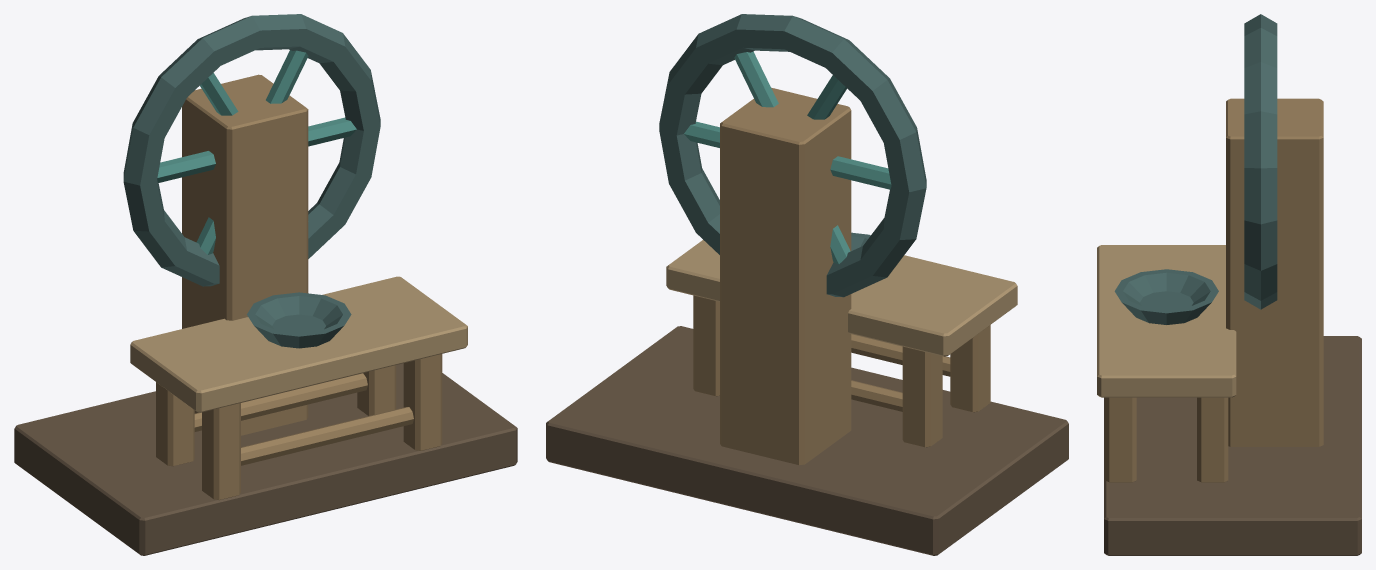
Rendered from sun-altar.glb.
The picture shows the model from 3 angles, left to right: view 1: azimuth 30°, elevation 25°; view 2: azimuth 150°, elevation 25°; view 3: azimuth 270°, elevation 25°; orthographic projection. The views are drawn at different scales.
Visible parts, largest first — view 1: sun-altar__body; view 2: sun-altar__body; view 3: sun-altar__body.
Part boxes in pixels (x1,y1,x2,y2): sun-altar__body: [14, 14, 517, 555]; sun-altar__body: [546, 14, 1068, 555]; sun-altar__body: [1097, 14, 1361, 555].
Size of the model in its own units: 1.25 by 1.38 by 0.76.
